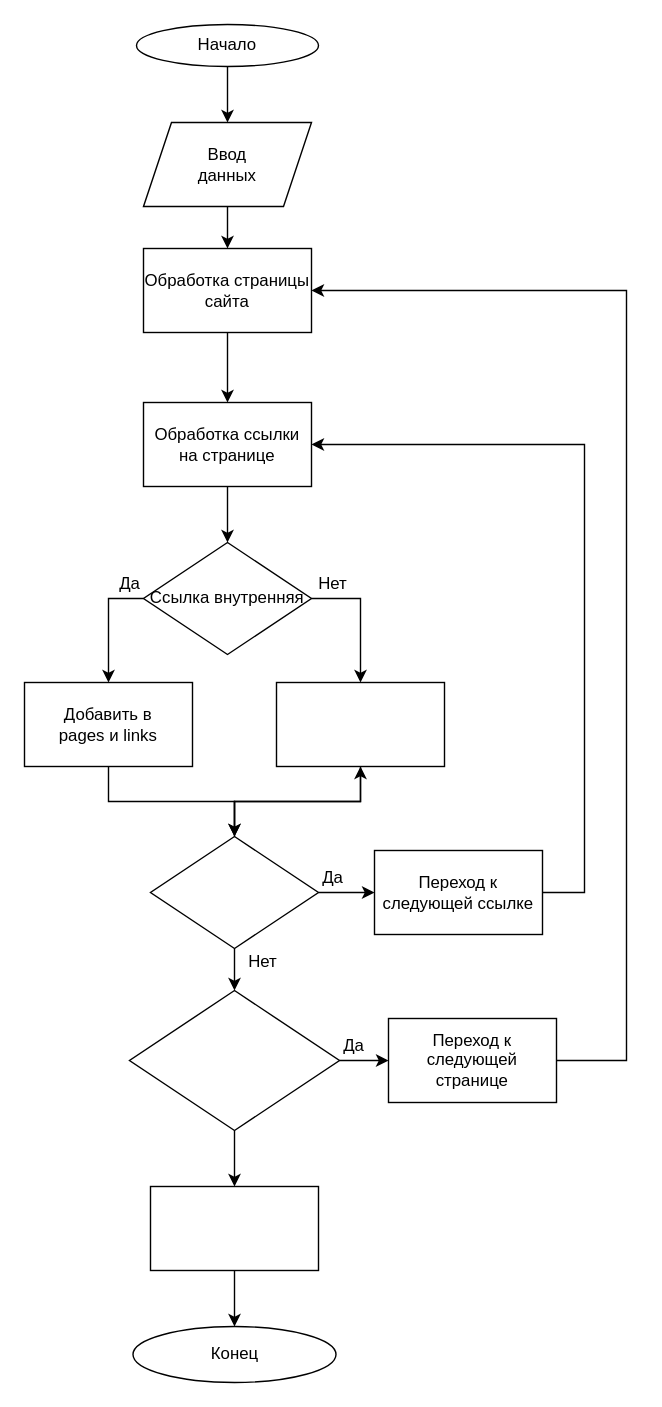
Some shapes in this 662 by 1407 pixel diagram are drawn without their labels. Here are the shapes that lost their labels. From the top down, the box of each, then its label:
(275, 681, 444, 766): Добавить в links
(149, 835, 318, 948): Есть еще ссылки?
(128, 989, 340, 1130): Остались еще не обработанные страницы на сайте?
(149, 1185, 318, 1270): Вывод результата
